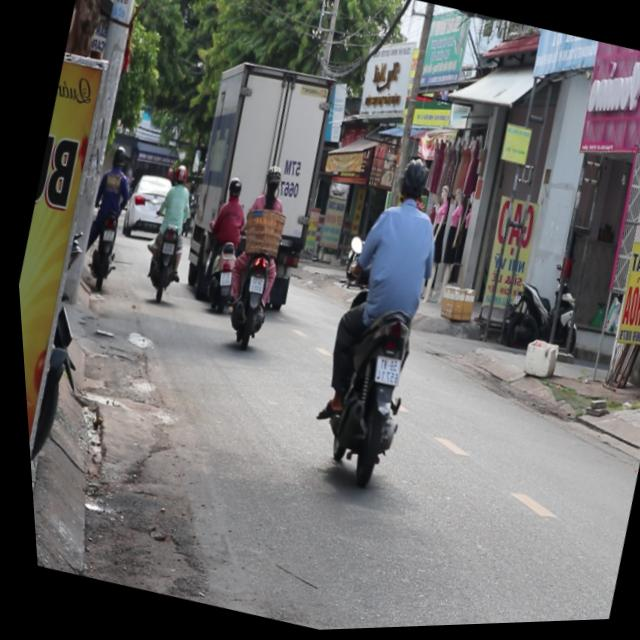helmet: (390, 155, 432, 210)
licenseplate: (281, 144, 470, 493), (205, 158, 305, 354)
nohelmet: (366, 356, 397, 388), (243, 276, 261, 293)
